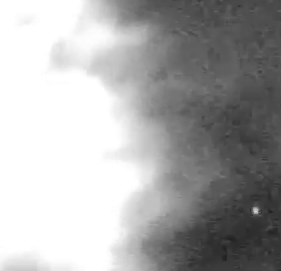Target: (252, 206, 258, 213)
